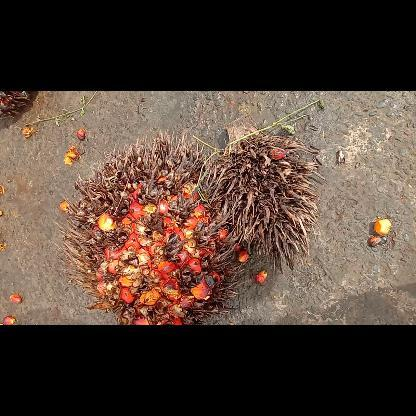Janjang kosong: (206, 114, 324, 272)
Terlalu masak: (56, 128, 242, 324)
